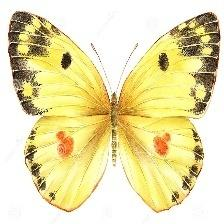butterfly: (9, 12, 220, 212)
